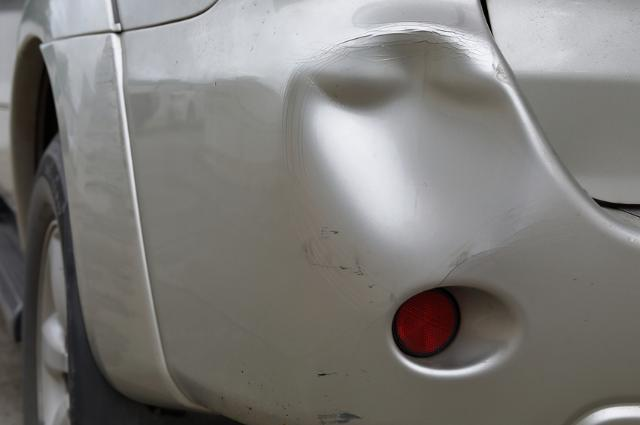Bumper: (255, 13, 575, 289)
